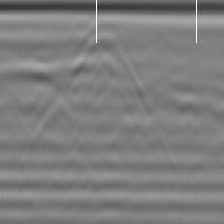Utility: (75, 26, 137, 79)
